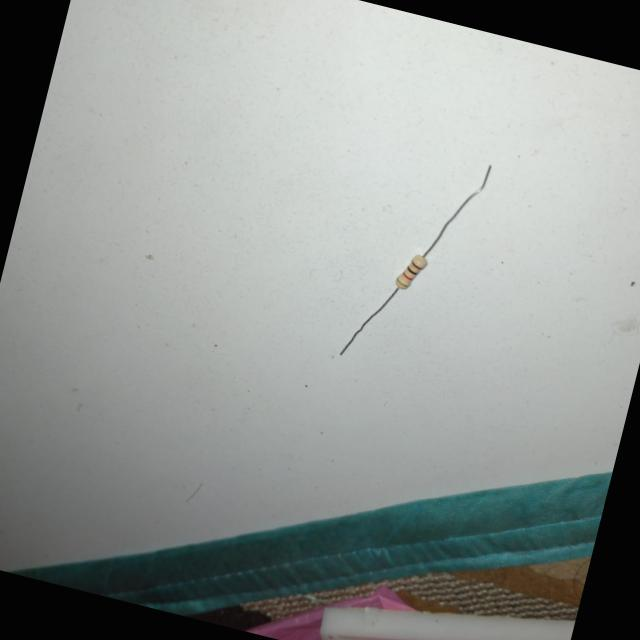Resistor: (389, 248, 432, 298)
